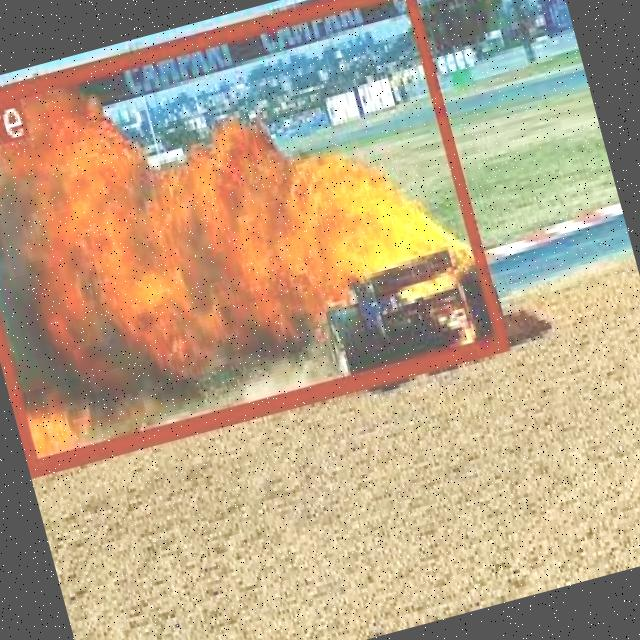fire: (0, 0, 507, 473)
